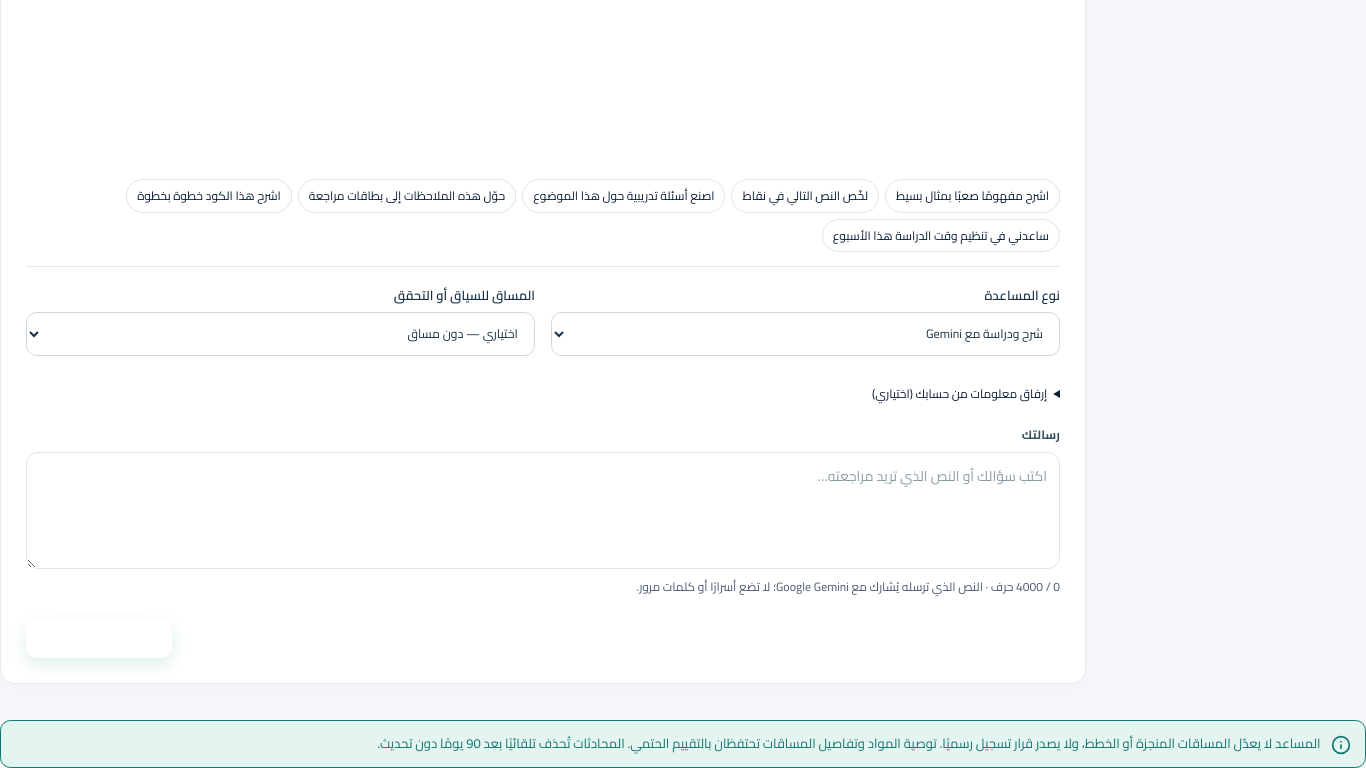
Test: provider failure displays friendly quota error without inventing an assistant reply
(page scrolled)
Type "سؤال دراسي" into the text box labelled "رسالتك" at [543, 510], box [26,452,1060,569]
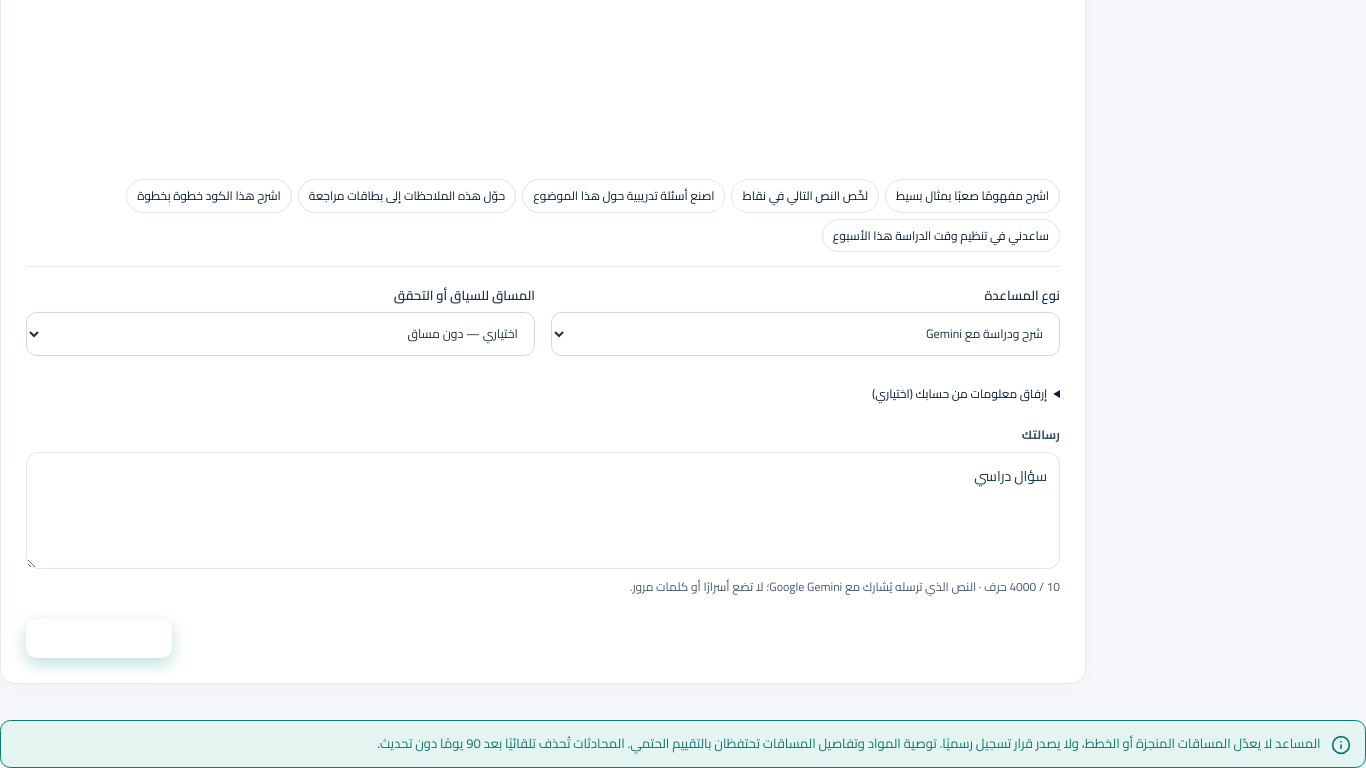
Click the button "إرسال إلى Gemini" at [99, 638], box [26,619,172,658]
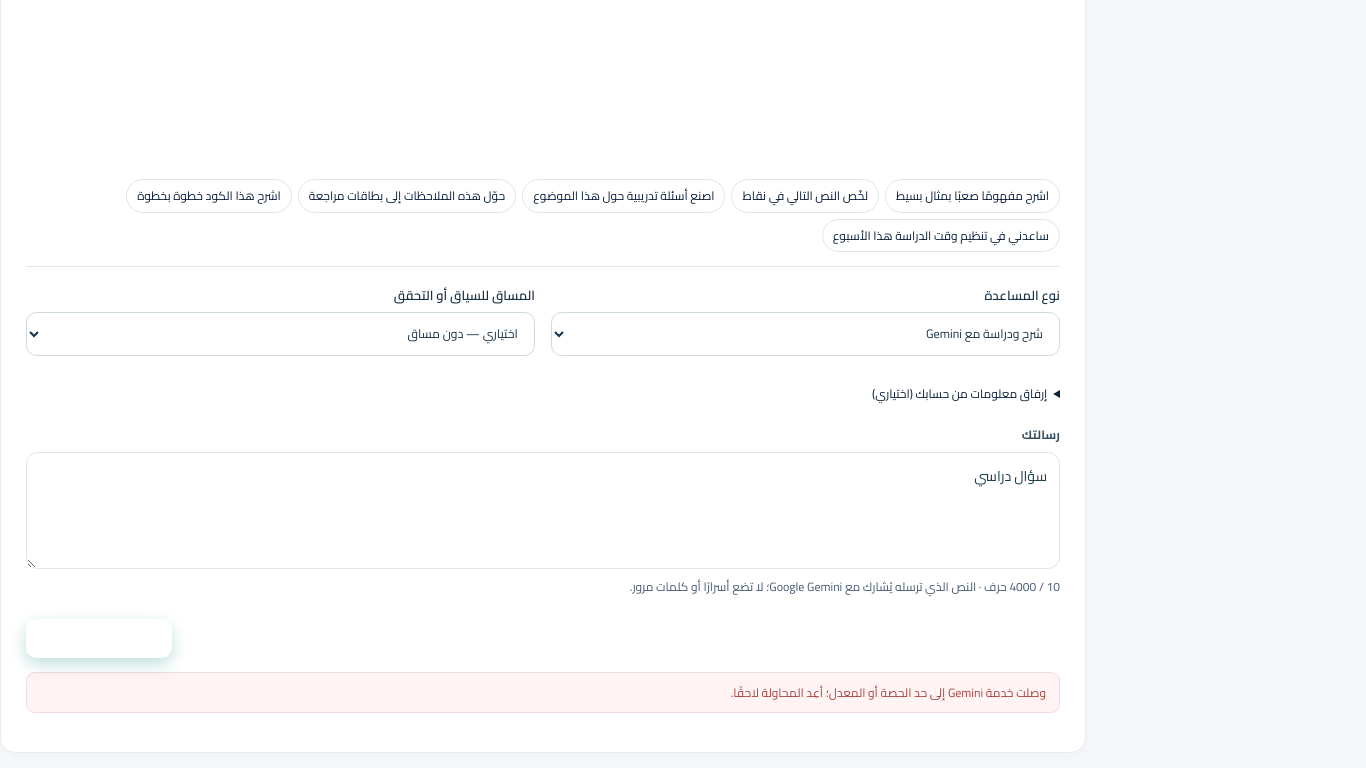
Now the message "وصلت خدمة Gemini إلى حد الحصة أو المعدل؛ أعِد المحاولة لاحقًا." is shown, box [26,672,1060,713]
